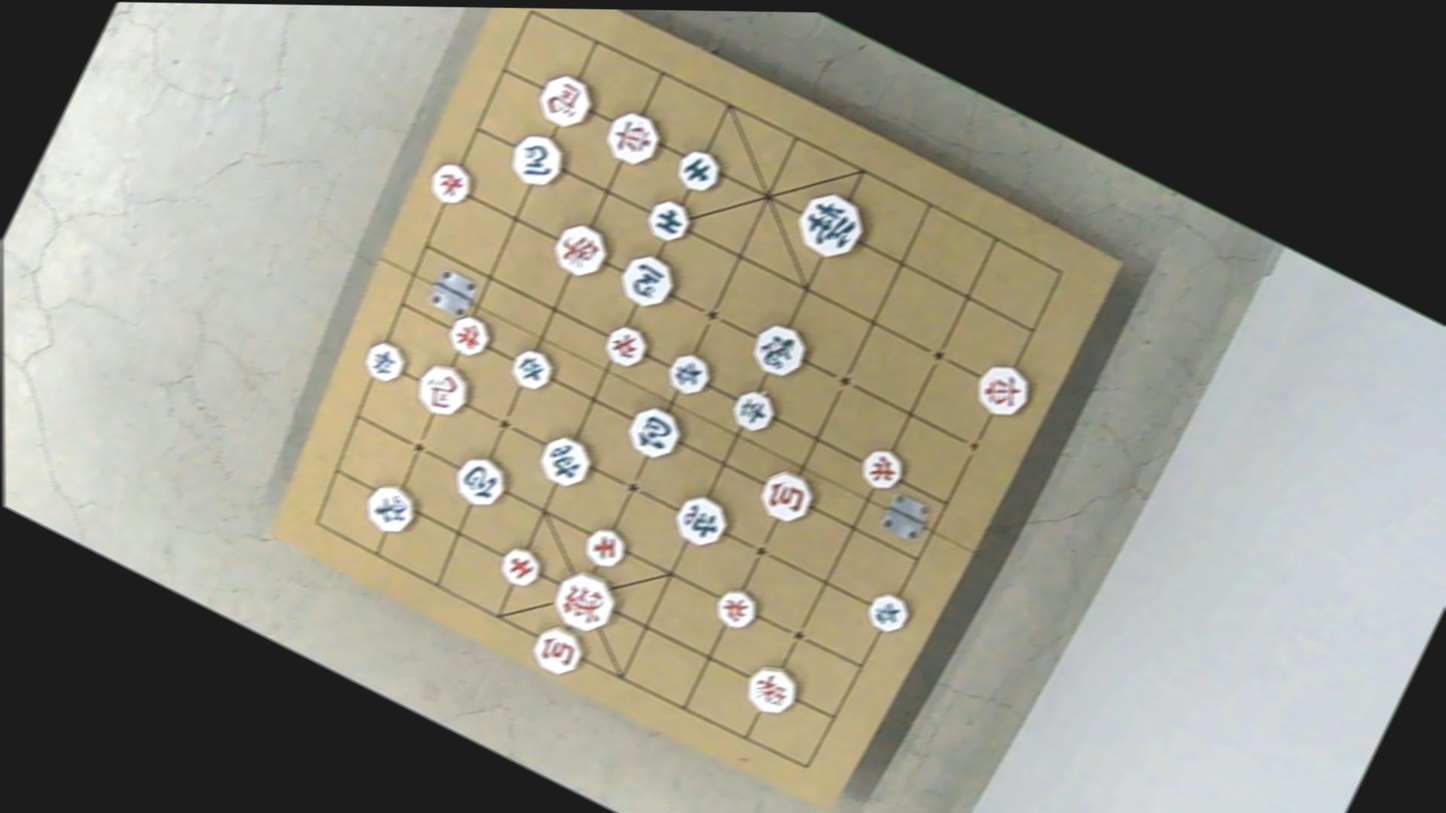cha_green: (668, 489, 734, 553), (532, 429, 596, 493)
cha_red: (598, 104, 666, 171), (969, 357, 1037, 424)
jol_green: (728, 386, 782, 438), (661, 348, 713, 400), (504, 343, 557, 394), (862, 591, 914, 641), (358, 339, 410, 388)
jol_red: (598, 318, 652, 372), (857, 443, 911, 495), (424, 157, 477, 209), (441, 309, 493, 361), (711, 582, 764, 633)
ma_green: (503, 128, 570, 193), (613, 247, 680, 312)
ma_red: (411, 358, 478, 423), (535, 68, 601, 133)
po_green: (621, 399, 687, 464), (446, 449, 511, 512)
po_red: (753, 464, 819, 529), (525, 617, 588, 678)
sa_green: (675, 145, 729, 198), (644, 196, 697, 248)
sa_red: (579, 522, 632, 573), (494, 542, 546, 592)
sang_green: (744, 315, 812, 382), (361, 477, 423, 538)
sang_red: (546, 218, 612, 284), (740, 659, 804, 723)
wang_green: (789, 184, 871, 266)
wang_red: (545, 564, 621, 639)
